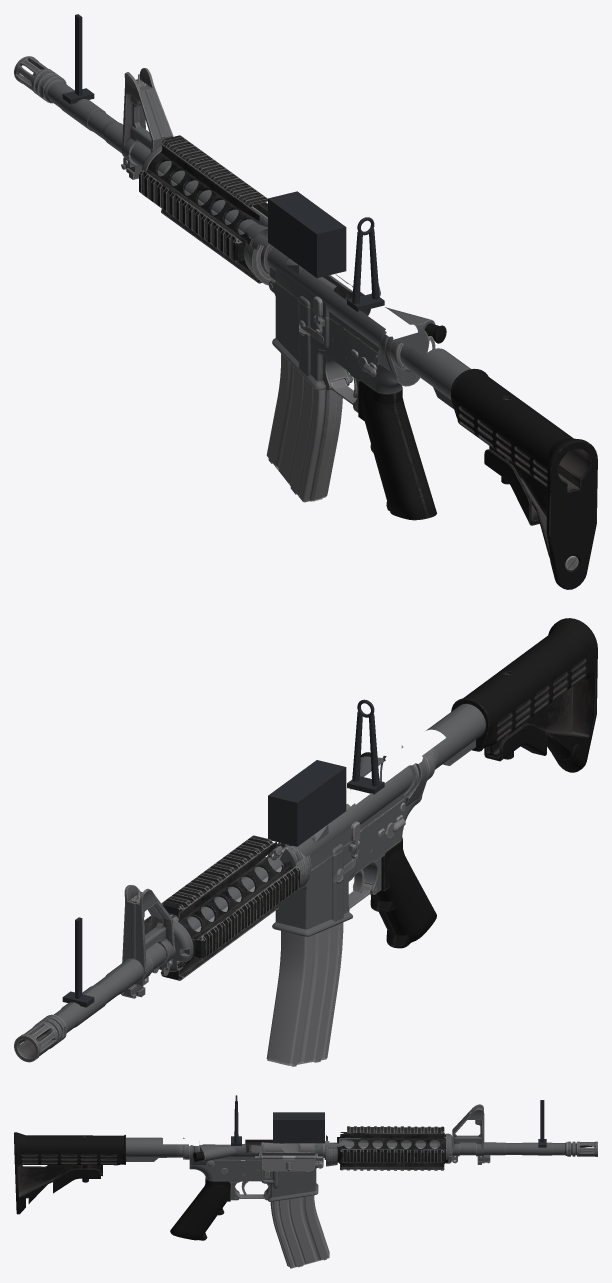
3 renders of one model, top to bottom at view 1: azimuth 30°, elevation 25°; view 2: azimuth 150°, elevation 25°; view 3: azimuth 270°, elevation 25°, orthographic. The views are drawn at different scales.
Parts seen in each view (by area): view 1: body, mag, rearsight; view 2: body, mag, rearsight; view 3: body, mag, charge, rearsight.
Boxes of the visible parts, box(x1,y1,x2,y2) form: body: box(14, 14, 597, 589); mag: box(266, 354, 342, 502); rearsight: box(347, 217, 384, 311); body: box(14, 618, 597, 1062); mag: box(266, 922, 343, 1066); rearsight: box(347, 699, 384, 794); body: box(14, 1100, 597, 1240); mag: box(270, 1195, 329, 1268); charge: box(261, 1141, 329, 1152); rearsight: box(231, 1095, 241, 1145).
Size of the model in its own units: 0.0673 by 0.2698 by 0.84.
2 materials, 1 textured.
